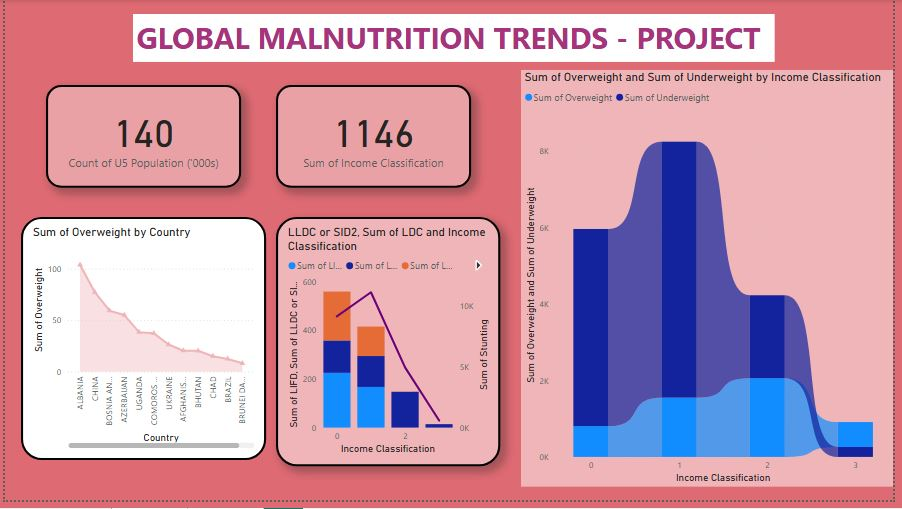

The page's visual inventory and layout, read from the dashboard file:
{"tool":"powerbi","page":{"name":"Page 1","canvas":[1280,720],"ordinal":0},"visuals":[{"type":"card","fields":{"Values":["CountNonNull(country-wise-average.U5 Population ('000s))"]},"box":[59,122.4,280.8,148.3],"z":0},{"type":"textbox","box":[184.8,20.2,923.9,68.9],"z":1000},{"type":"card","fields":{"Values":["Sum(malnutrition-estimates.Income Classification)"]},"box":[390.2,122.4,280.8,148.3],"z":2000},{"type":"areaChart","fields":{"Category":["malnutrition-estimates.Country"],"Y":["Sum(malnutrition-estimates.Overweight)"]},"box":[23,312.5,352.8,349.9],"z":3000},{"type":"lineStackedColumnComboChart","title":" LLDC or SID2, Sum of LDC and  Income Classification","fields":{"Category":["malnutrition-estimates.Income Classification"],"Y":["Sum(malnutrition-estimates.LIFD)","Sum(malnutrition-estimates.LLDC or SID2)","Sum(malnutrition-estimates.LDC)"],"Y2":["Sum(malnutrition-estimates.Stunting)"]},"box":[390.2,312.5,322.6,358.6],"z":4000},{"type":"ribbonChart","fields":{"Category":["malnutrition-estimates.Income Classification"],"Y":["Sum(malnutrition-estimates.Overweight)","Sum(malnutrition-estimates.Underweight)"]},"box":[743,100.8,537.1,600.5],"z":5000}]}

Visuals, with their boxes in screenshot pixels (x1, y1, x2, y2), scaled from the page's 1280x720 canvas onto the 902x509 screenshot:
card - CountNonNull(country-wise-average.U5 Population ('000s)): (x1=42, y1=87, x2=239, y2=191)
textbox: (x1=130, y1=14, x2=781, y2=63)
card - Sum(malnutrition-estimates.Income Classification): (x1=275, y1=87, x2=473, y2=191)
areaChart - malnutrition-estimates.Country x Sum(malnutrition-estimates.Overweight): (x1=16, y1=221, x2=265, y2=468)
" LLDC or SID2, Sum of LDC and  Income Classification" lineStackedColumnComboChart: (x1=275, y1=221, x2=502, y2=474)
ribbonChart - malnutrition-estimates.Income Classification x Sum(malnutrition-estimates.Overweight): (x1=524, y1=71, x2=901, y2=496)
